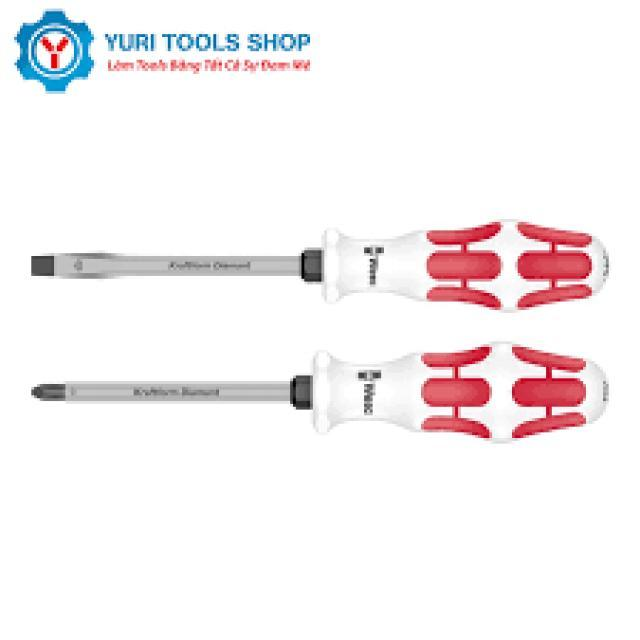screwdriver: (31, 327, 614, 447), (27, 214, 613, 314)
